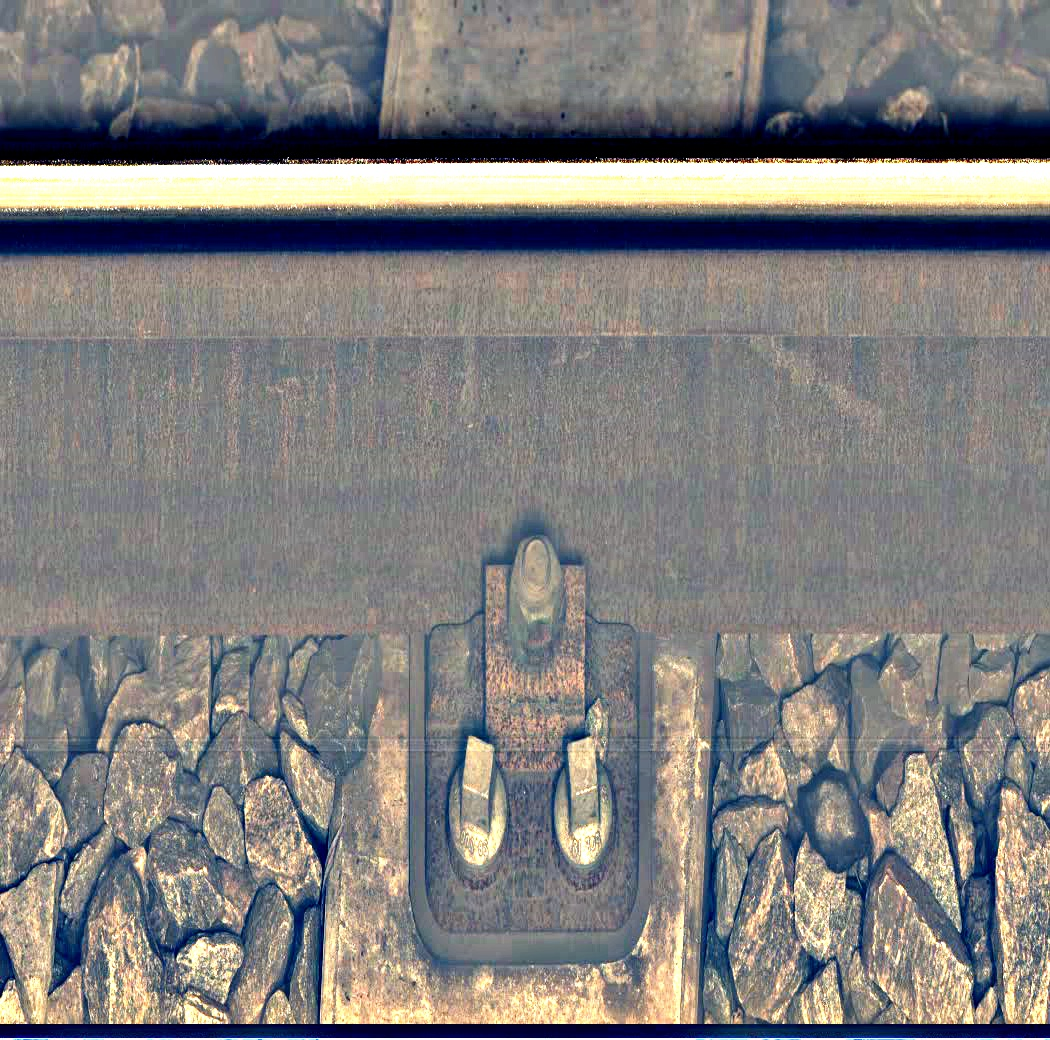KPO: (396, 519, 666, 974)
